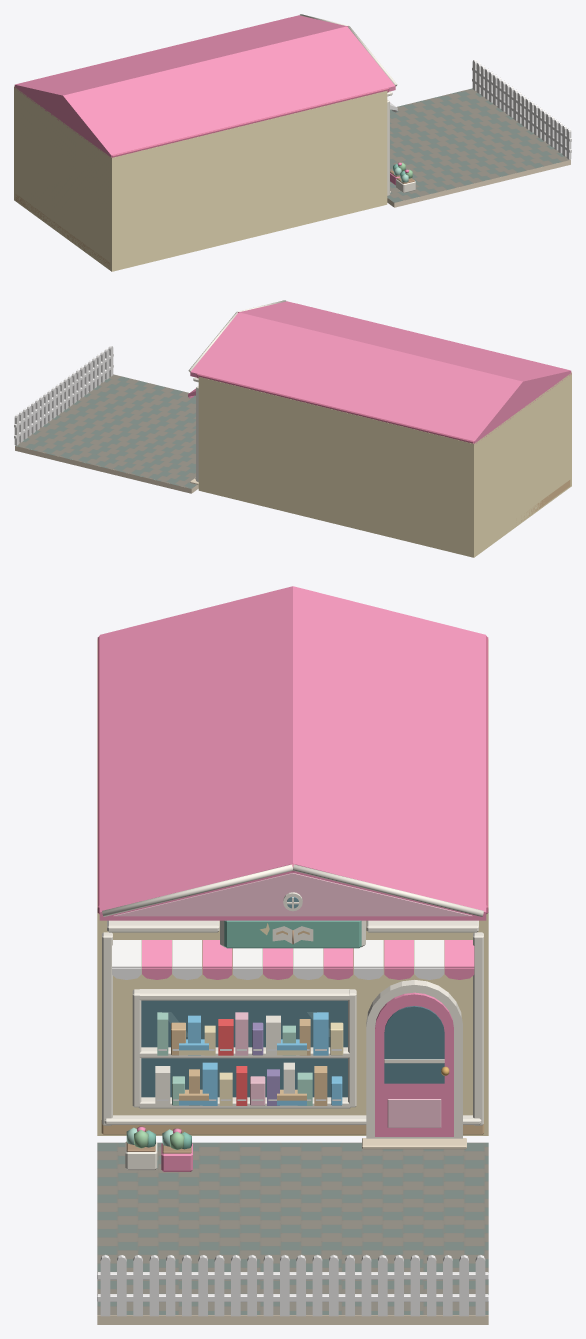
File: town_side_b.glb
3 views of the same model, one above another, from view 1: azimuth 30°, elevation 25°; view 2: azimuth 150°, elevation 25°; view 3: azimuth 270°, elevation 25° (orthographic). The views are drawn at different scales.
Parts seen in each view (by area): view 1: Building, Roof, YardPaving, WhiteFence, YardDetails; view 2: Building, Roof, YardPaving, WhiteFence; view 3: Roof, YardPaving, Building, Display, WhiteFence, DoorAndTrim, Awning, StoreSign, YardDetails, PaintedDetails.
Boxes of the visible parts, bbox=[...] form: Building: bbox=[14, 86, 392, 271]; Roof: bbox=[14, 14, 397, 158]; YardPaving: bbox=[387, 88, 570, 207]; WhiteFence: bbox=[472, 60, 571, 159]; YardDetails: bbox=[390, 162, 415, 192]; Building: bbox=[193, 372, 571, 557]; Roof: bbox=[188, 300, 571, 443]; YardPaving: bbox=[15, 374, 198, 493]; WhiteFence: bbox=[14, 346, 113, 445]; Roof: bbox=[97, 586, 488, 920]; YardPaving: bbox=[97, 1142, 488, 1324]; Building: bbox=[97, 639, 488, 1135]; Display: bbox=[132, 989, 356, 1108]; WhiteFence: bbox=[97, 1255, 488, 1316]; DoorAndTrim: bbox=[362, 980, 466, 1149]; Awning: bbox=[112, 940, 474, 979]; StoreSign: bbox=[220, 920, 365, 948]; YardDetails: bbox=[125, 1126, 192, 1171]; PaintedDetails: bbox=[156, 923, 341, 1100].
Size of the model in its own units: 13.03 by 3.94 by 4.8.
20 materials, 20 textured.
